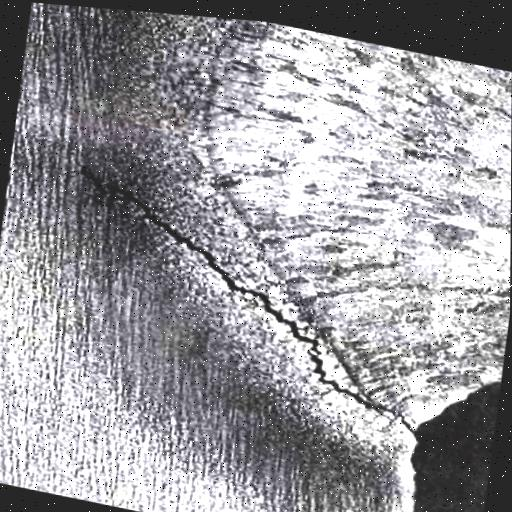crack: (45, 149, 457, 446)
